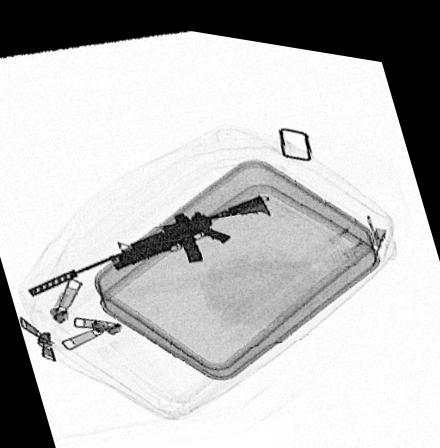Gun: (26, 184, 271, 296)
